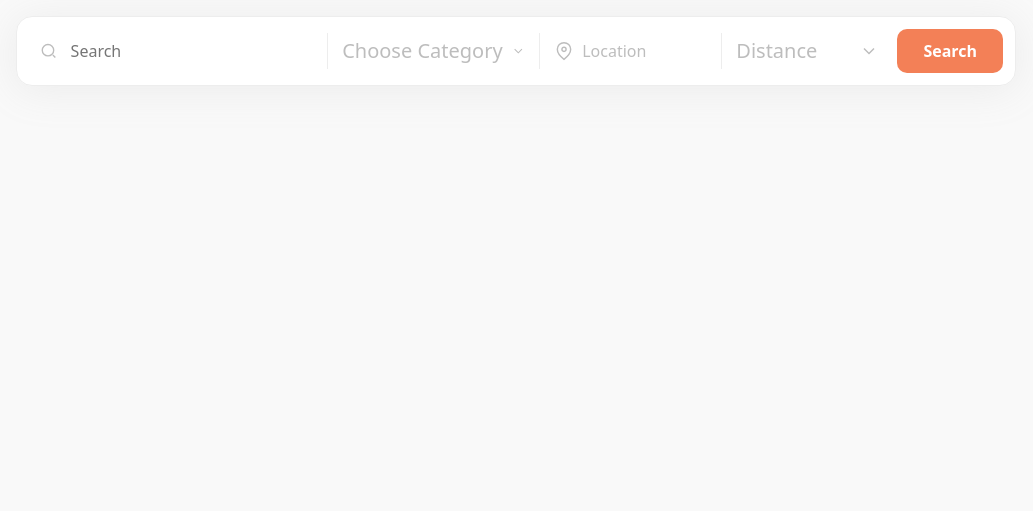
Test: HomeSearchBar › measures the radius from the visitor without a place, and asks for one when the position is unknown
The width and height of the screenshot is (1033, 511).
What coordinates should you click on to do the following:
click the dropdown labelled "Distance"
I would click on:
 (808, 50)
Its box is [736,37,879,64].
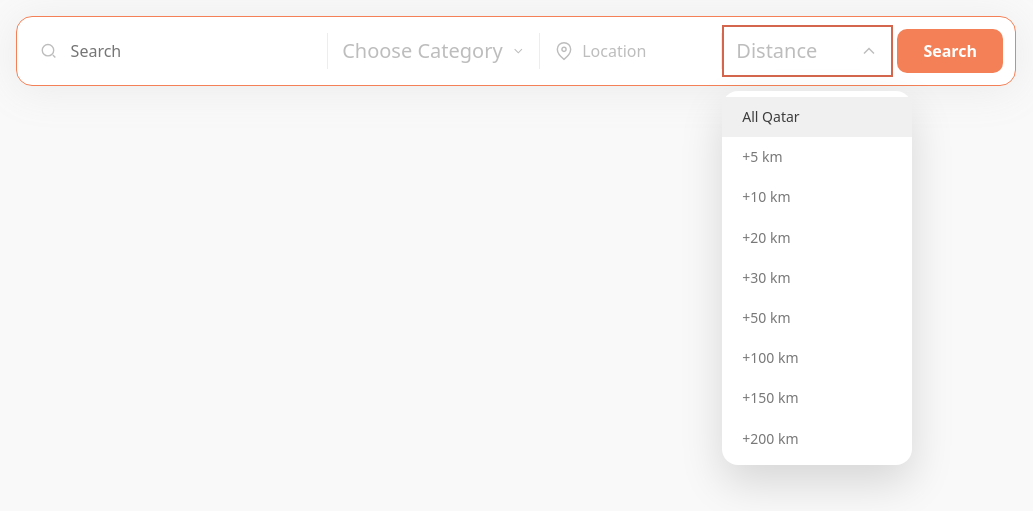
What coordinates should you click on to do the following:
click the option "+5 km"
I would click on:
 (762, 157)
Its box is [742,147,782,166].
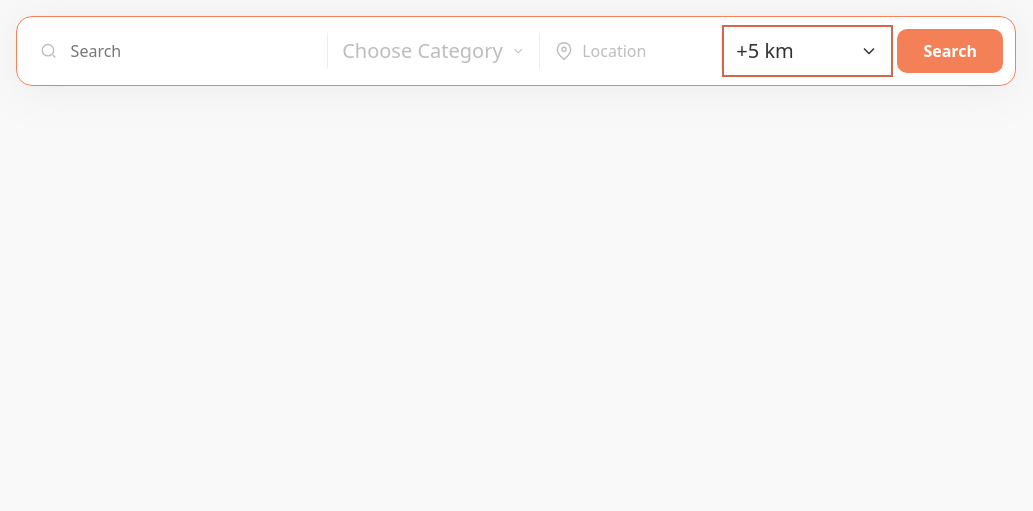
What coordinates should you click on to do the following:
click the button "Search"
I would click on:
 (950, 51)
Its box is [897,29,1003,73].
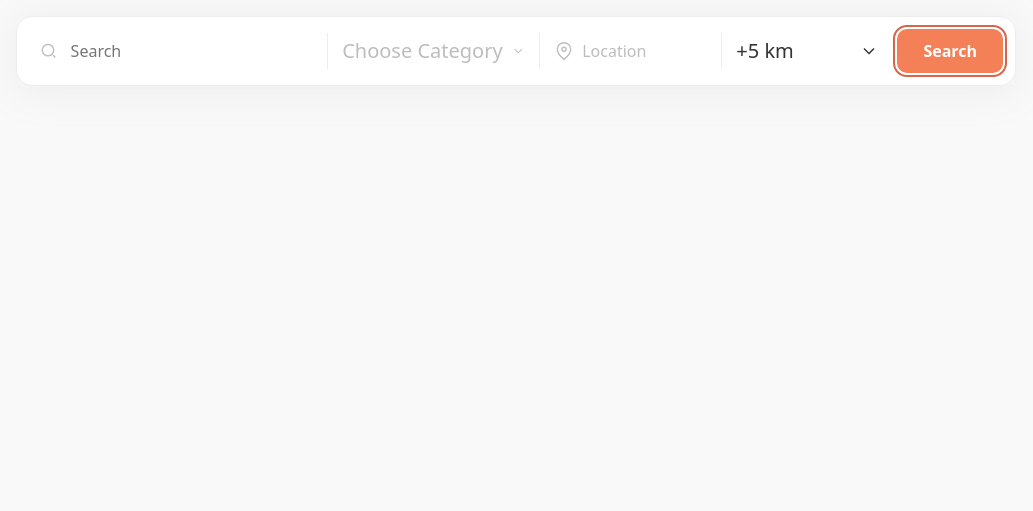
What coordinates should you click on to do the following:
click the button "Search"
I would click on:
 (950, 51)
Its box is [897,29,1003,73].
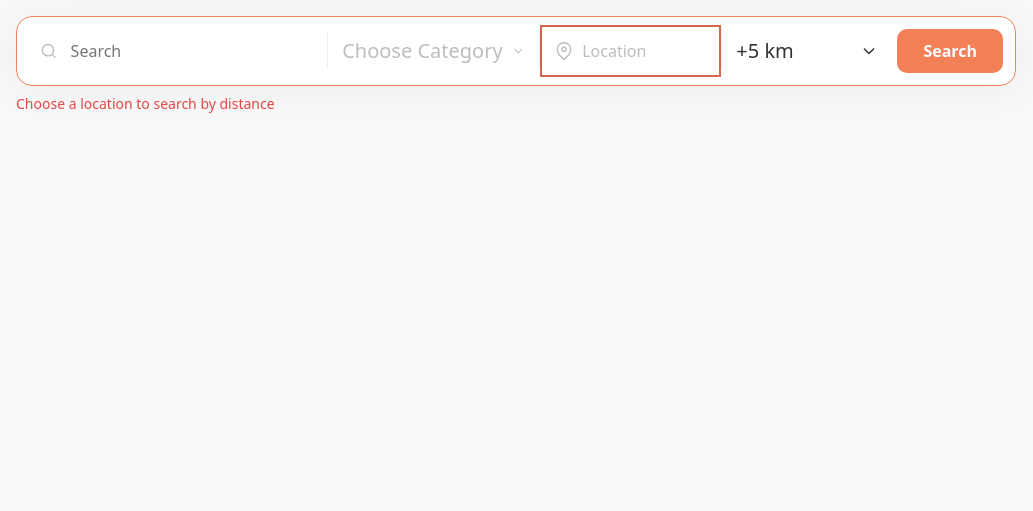
Result: the message reads "Choose a location to search by distance" at [16,94,275,113]
